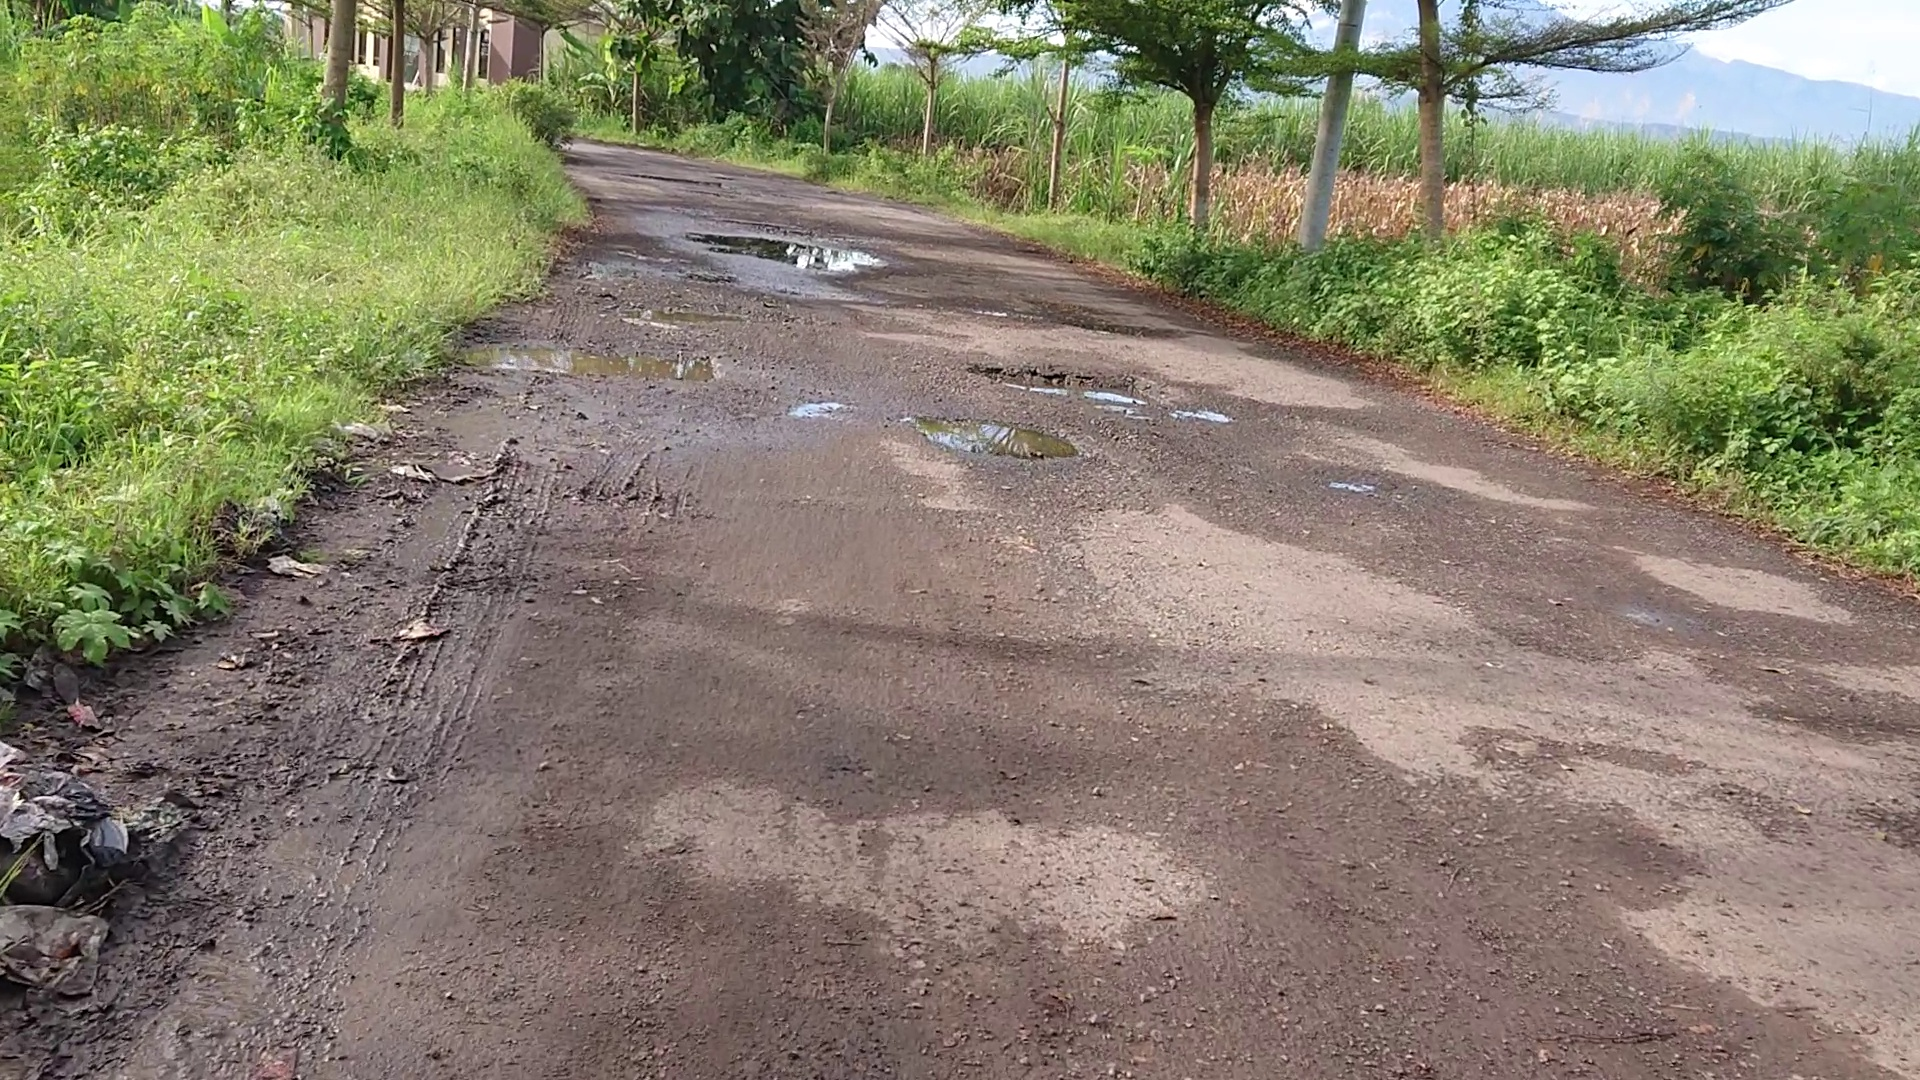Berlubang: (891, 356, 1208, 467), (680, 224, 884, 278), (957, 301, 1175, 345)
